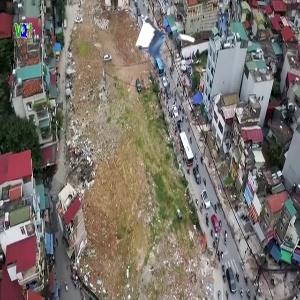drone: (136, 23, 195, 82)
